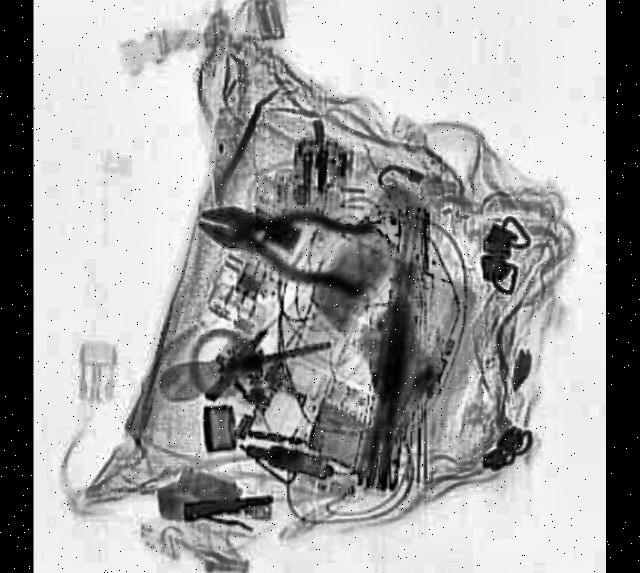Pliers: (195, 176, 376, 298)
